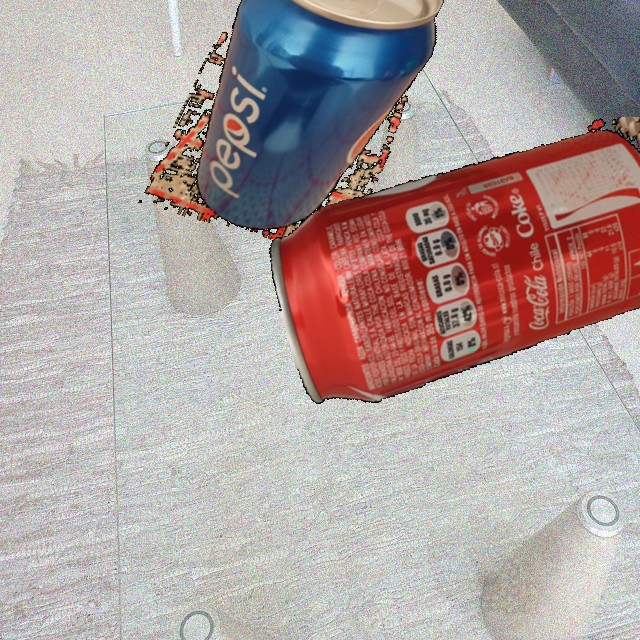coca cola: (256, 117, 640, 408)
pepsi: (134, 0, 477, 293)
